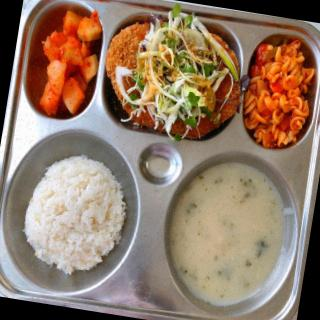Nasi: (21, 149, 134, 283)
